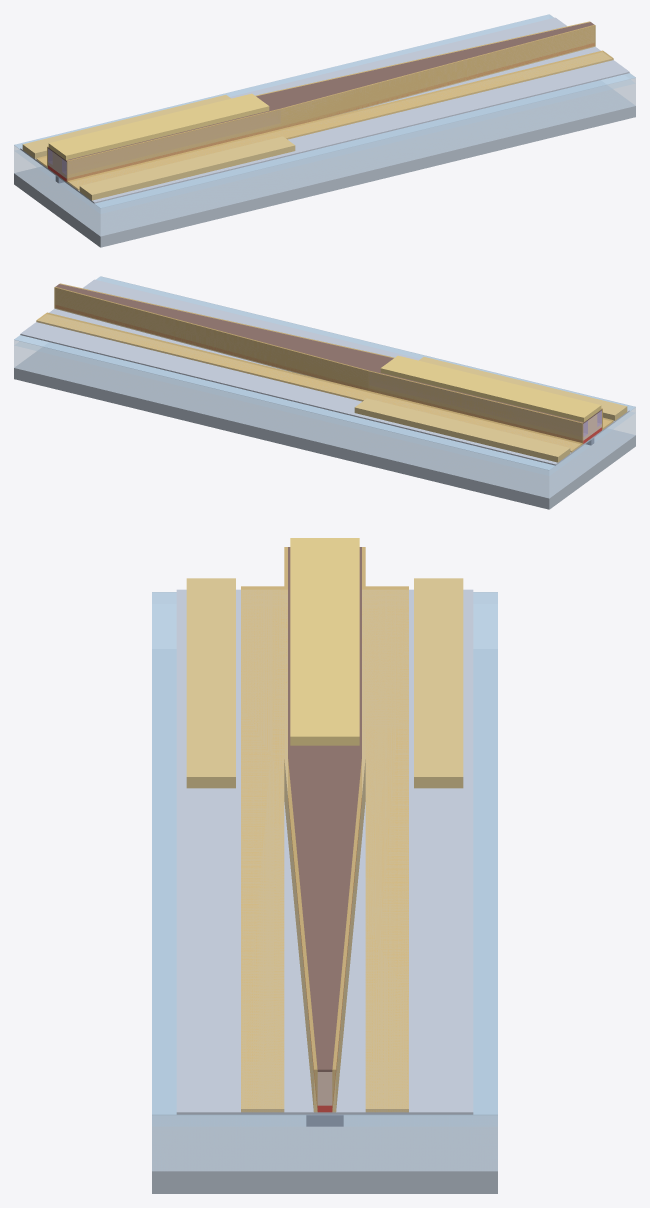
File: stack-hetero.glb
3 views of the same model, one above another, from view 1: azimuth 30°, elevation 25°; view 2: azimuth 150°, elevation 25°; view 3: azimuth 270°, elevation 25° (orthographic). The views are drawn at different scales.
Parts seen in each view (by area): view 1: sisub, ox, sin, nlayer, bond, nmetal, pmetal, cap, implant, pinp, mqw; view 2: sisub, sin, ox, nlayer, bond, nmetal, pmetal, cap, pinp, implant, mqw; view 3: nlayer, sin, sisub, bond, ox, nmetal, cap, pmetal, pinp.
Part boxes in pixels (x1,y1,x2,y2): sisub: (14,81,635,247); ox: (14,16,635,236); sin: (36,21,613,190); nlayer: (20,17,629,203); bond: (14,14,635,208); nmetal: (22,95,295,200); pmetal: (48,93,269,160); cap: (48,22,594,161); implant: (48,110,280,174); pinp: (48,26,594,178); mqw: (48,43,594,181); sisub: (14,343,635,509); sin: (36,283,613,452); ox: (14,281,635,497); nlayer: (20,279,629,465); bond: (14,276,635,470); nmetal: (354,357,627,462); pmetal: (380,355,601,422); cap: (55,284,601,423); pinp: (55,289,601,440); implant: (369,372,601,436); mqw: (55,305,601,443); nlayer: (176,589,473,1114); sin: (241,547,408,1112); sisub: (152,649,497,1193); bond: (152,592,497,1115); ox: (152,593,497,1170); nmetal: (186,578,463,788); cap: (288,547,361,1071); pmetal: (290,538,359,745); pinp: (288,765,361,1105).
Bounding box in the file's own units: 50 × 5.94 × 14.
